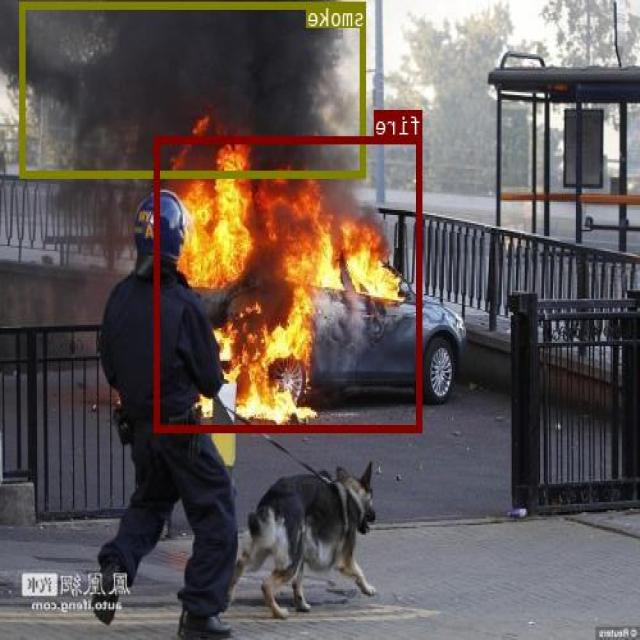fire: (155, 136, 424, 432)
smoke: (22, 0, 366, 176)
